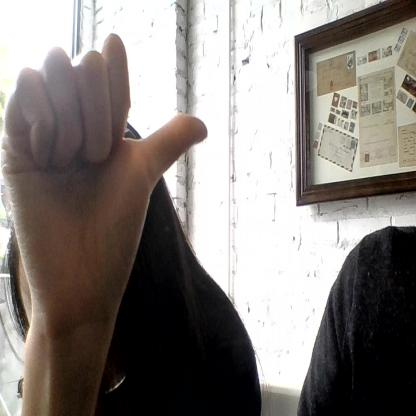left: (3, 33, 207, 281)
